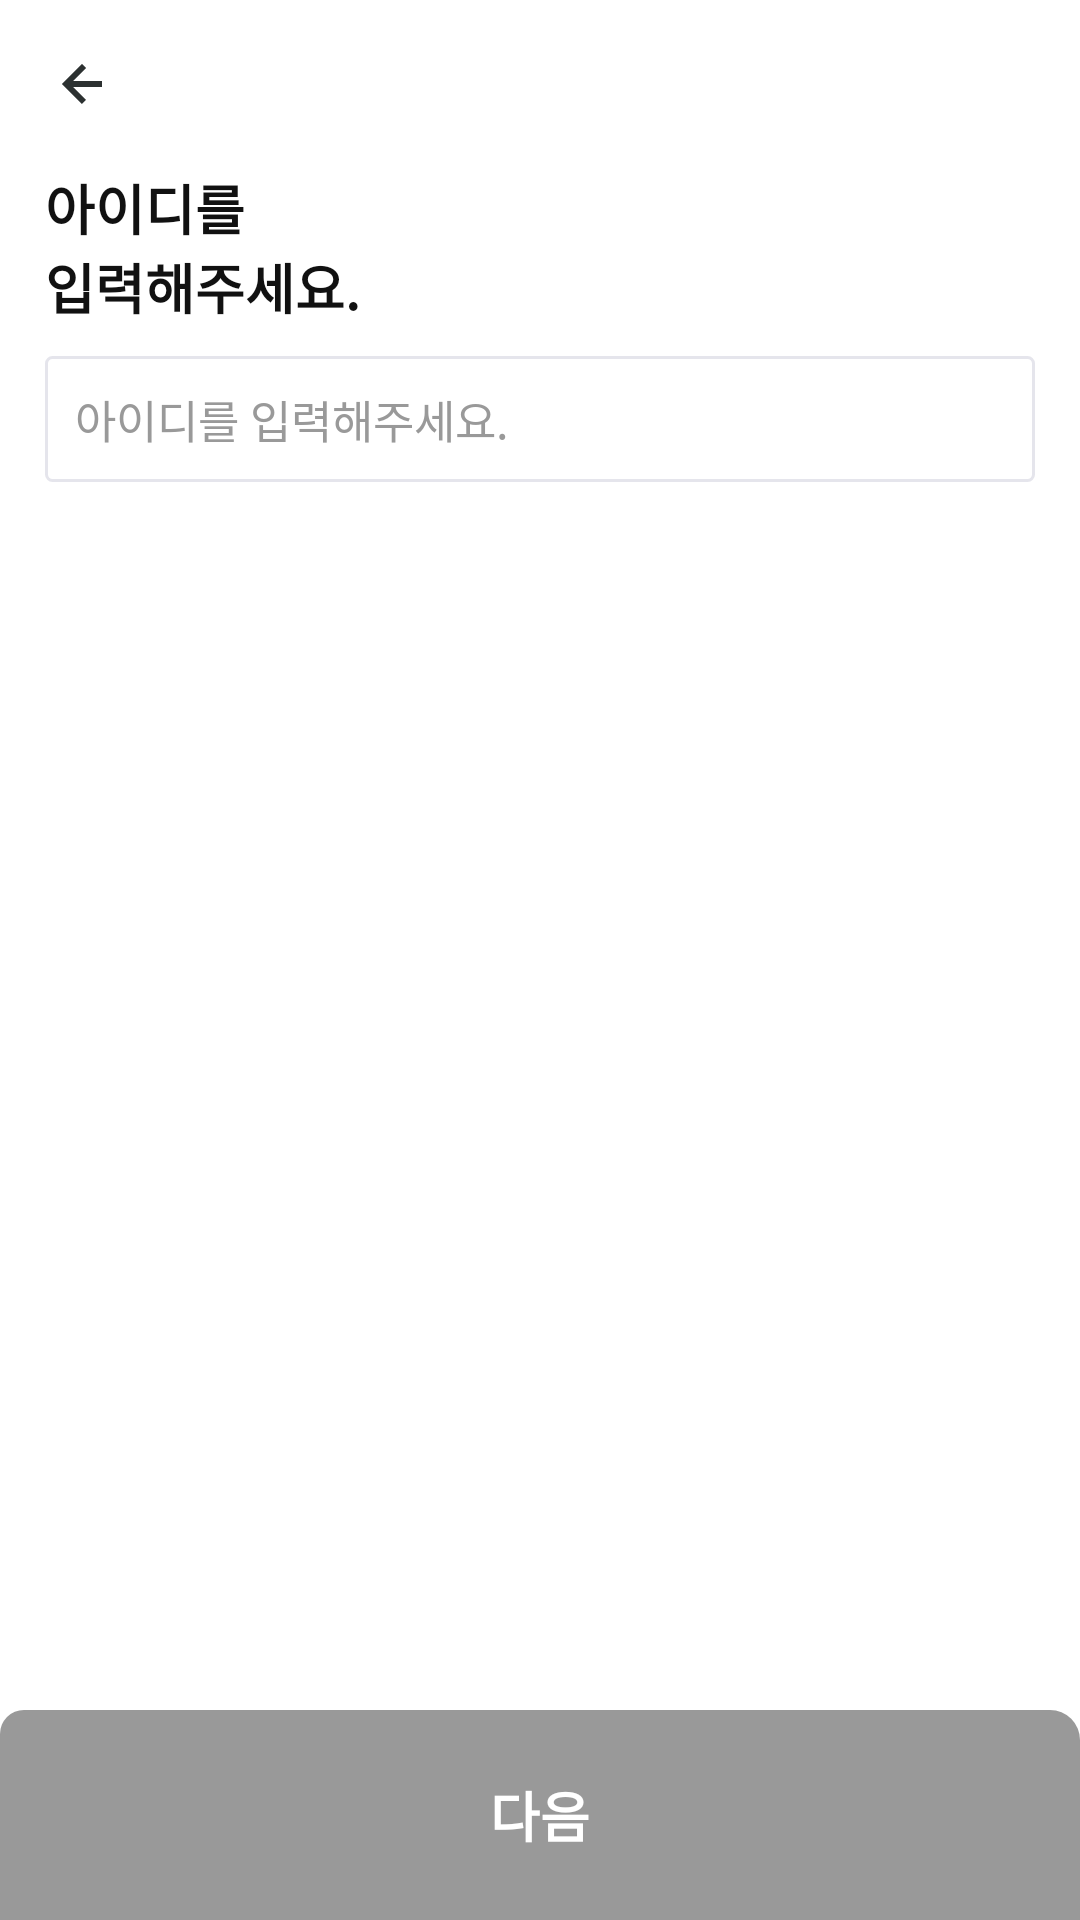

Named icons in this screenshot (1080*1920) and their centers, point (x, y):
back: point (82, 84)
